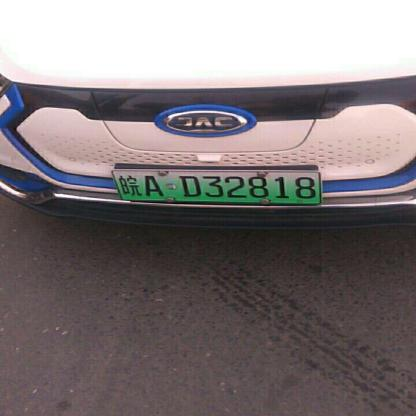lp: (113, 171, 319, 202)
